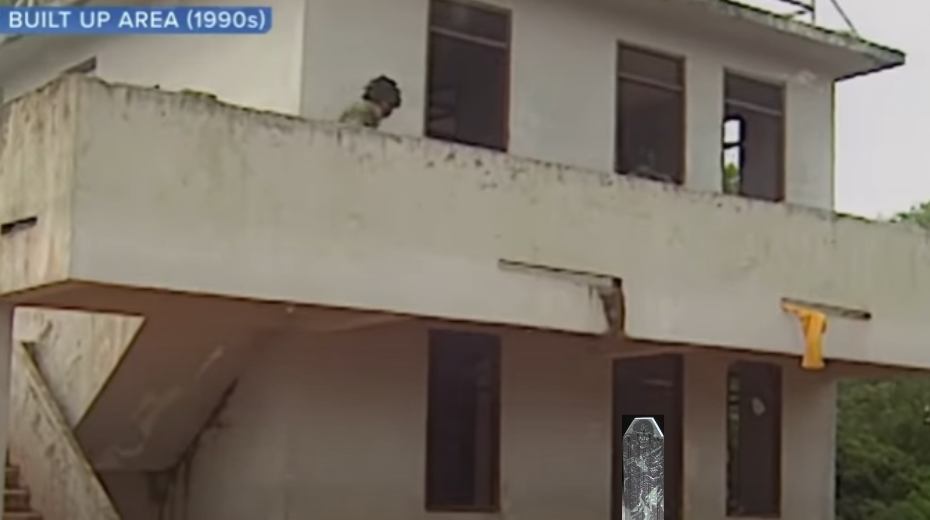HVT1: (623, 416, 663, 520)
